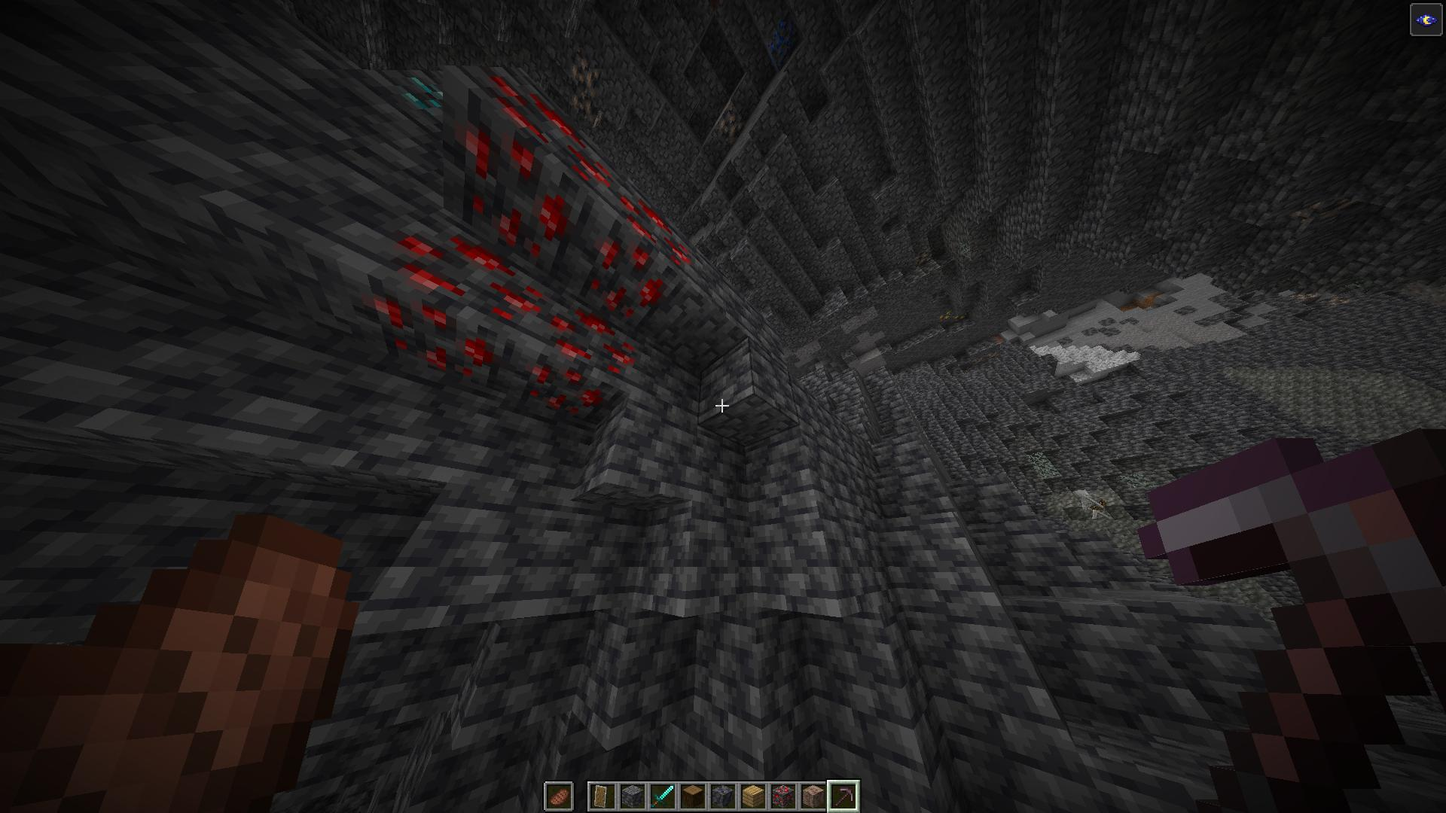diamond ore: (398, 73, 443, 117)
iron ore: (566, 90, 602, 132), (712, 100, 746, 141), (566, 52, 598, 91)
redstone ore: (380, 231, 533, 370), (452, 111, 585, 260), (593, 200, 692, 318), (535, 309, 627, 419)
